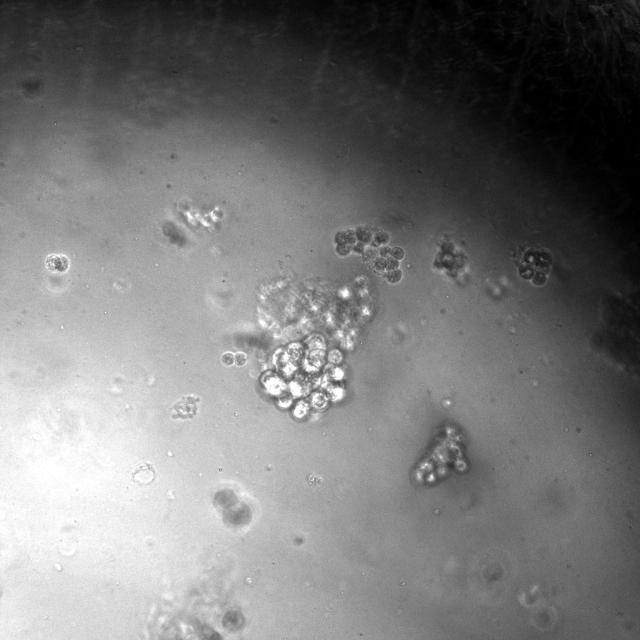organoid: (258, 276, 373, 421), (334, 225, 404, 283), (412, 423, 469, 485), (178, 199, 222, 229), (46, 254, 69, 272), (222, 351, 247, 366)
